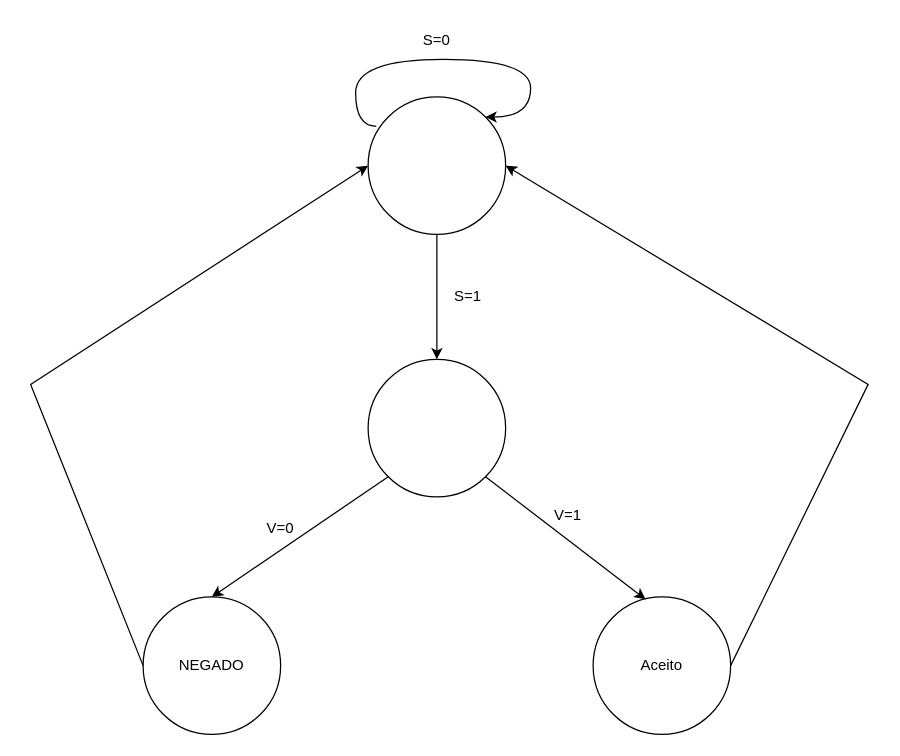
Image size: 900x756. Some labels were removed from this diagram. Here are the shapes that lost their labels. From the top down, the centre of each, then its label:
At [436,165]: "Aguardando".
At [436,427]: "Validando".
